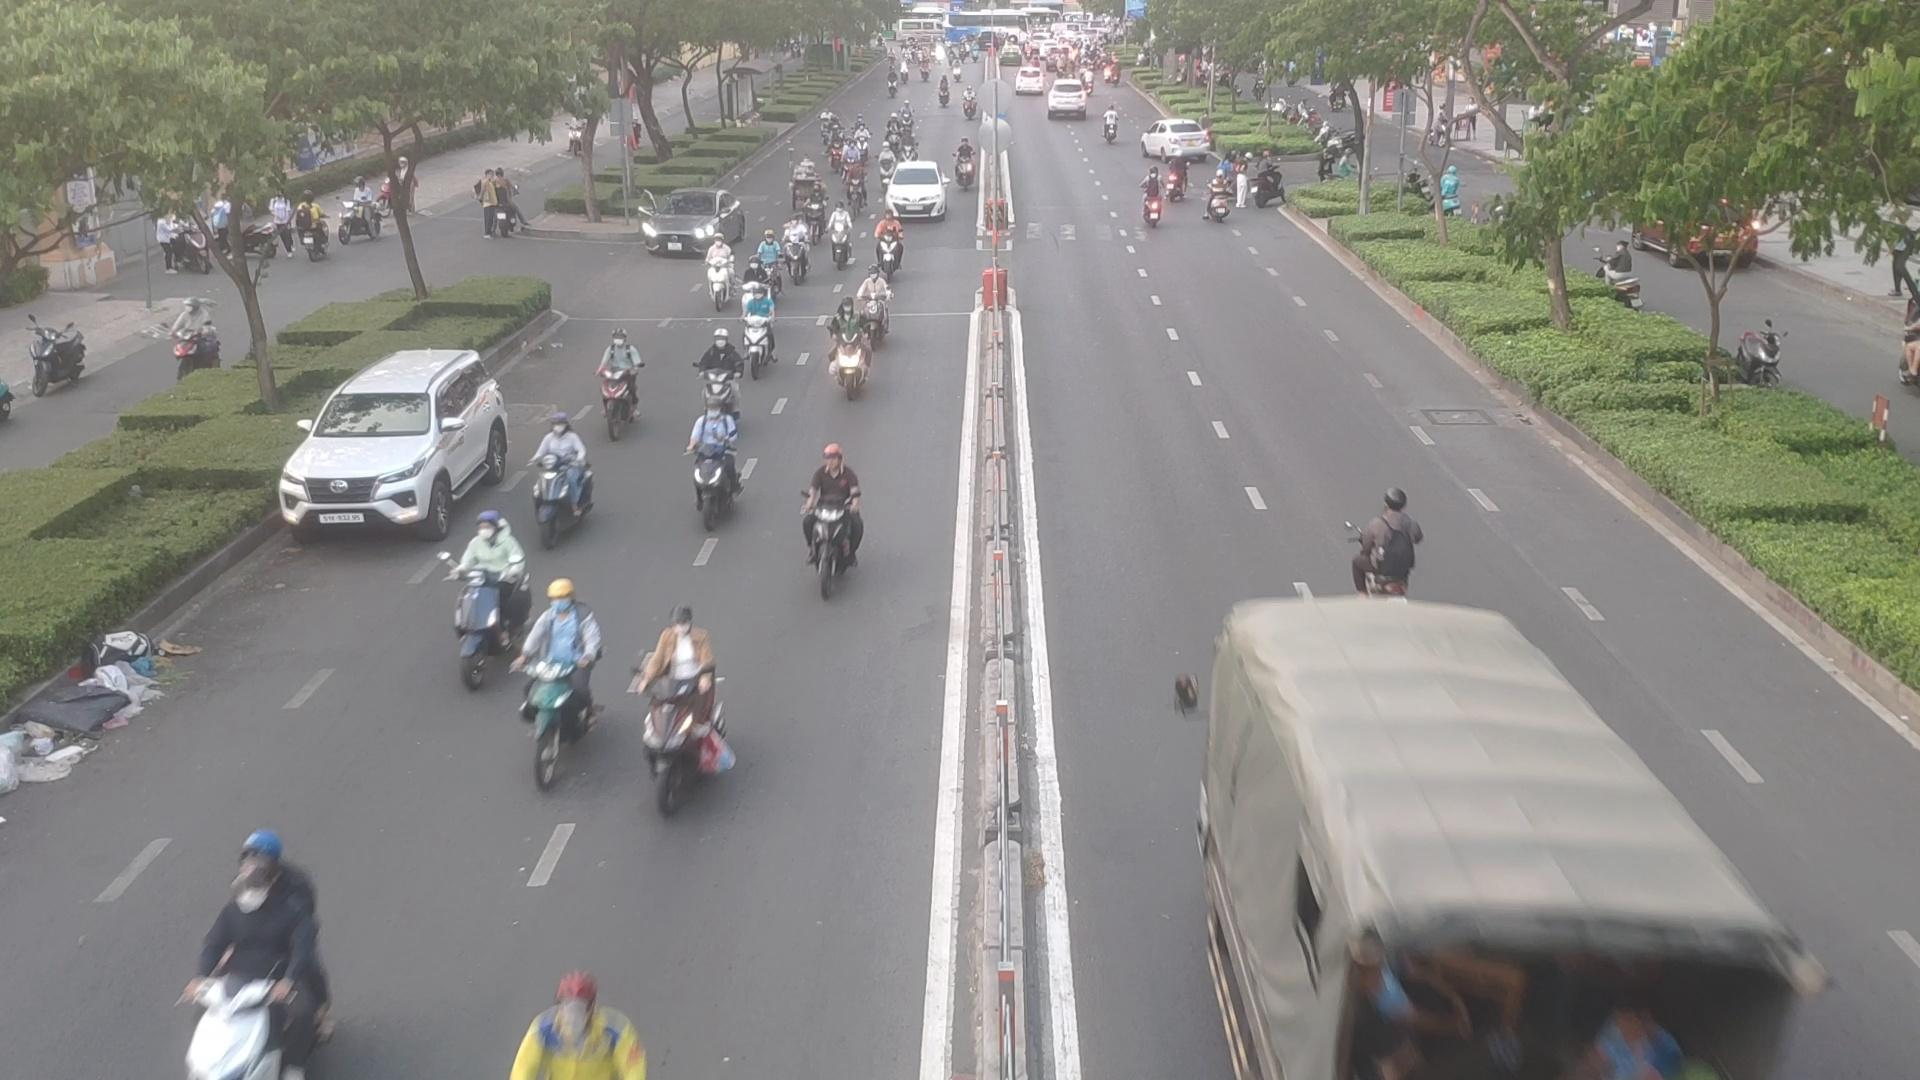car: (1196, 609, 1764, 1080), (280, 353, 517, 542), (636, 190, 746, 261), (1130, 107, 1212, 166), (884, 162, 952, 224)
motorbike: (167, 822, 324, 1080), (505, 571, 607, 802), (641, 595, 707, 806), (517, 421, 601, 556), (440, 510, 512, 666), (795, 446, 860, 603), (1346, 493, 1425, 604), (678, 397, 740, 520), (597, 332, 650, 452), (827, 301, 880, 407), (737, 286, 786, 373), (694, 240, 738, 326), (852, 266, 895, 353), (827, 196, 855, 269), (1205, 174, 1232, 233), (783, 215, 807, 277), (804, 186, 829, 243), (1139, 162, 1160, 224), (882, 214, 899, 276), (845, 165, 866, 208), (952, 137, 969, 186), (1167, 150, 1183, 203), (828, 125, 845, 171), (898, 129, 918, 167), (853, 120, 872, 161), (841, 142, 857, 179), (880, 142, 893, 183)
